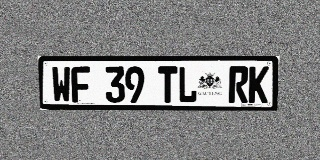3: (105, 67, 125, 103)
9: (125, 66, 144, 103)
F: (71, 67, 91, 103)
K: (248, 66, 269, 103)
L: (178, 66, 197, 103)
R: (228, 66, 249, 103)
T: (158, 66, 177, 103)
W: (51, 67, 71, 103)
